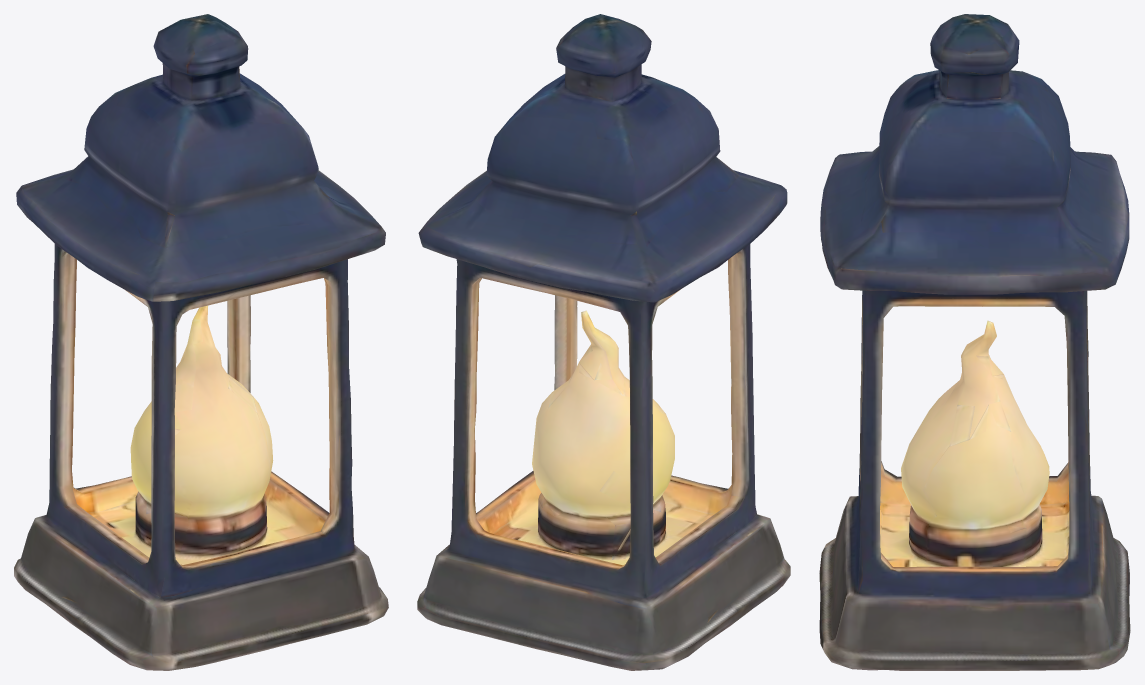
Rendered from lantern-balanced.glb.
3 views of the same model, side by side, from view 1: azimuth 30°, elevation 25°; view 2: azimuth 150°, elevation 25°; view 3: azimuth 270°, elevation 25° (orthographic). The views are drawn at different scales.
Visible parts, largest first — view 1: supplied-lantern-model; view 2: supplied-lantern-model; view 3: supplied-lantern-model.
Part boxes in pixels (<box>): supplied-lantern-model: <box>14,14,388,670</box>; supplied-lantern-model: <box>417,14,790,670</box>; supplied-lantern-model: <box>819,14,1130,670</box>.
Bounding box in the file's own units: 1.19 × 2.48 × 1.19.
1 material, 1 textured.
